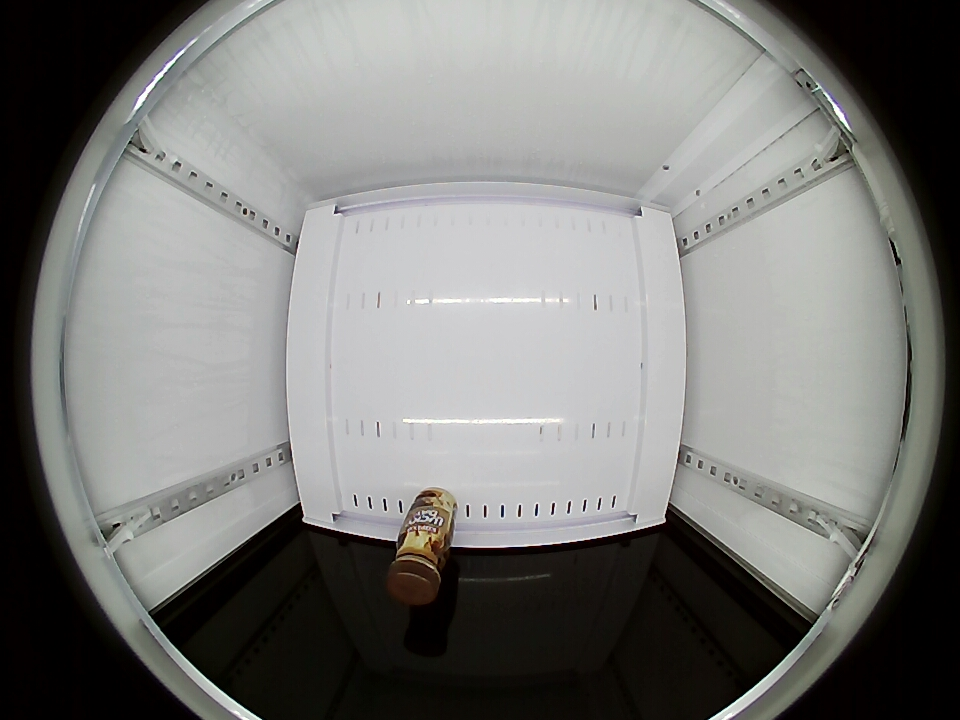lujikafei: (387, 527, 455, 604)
